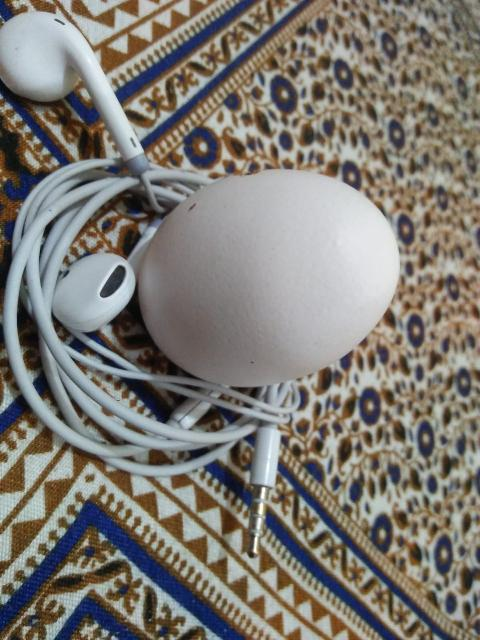Sano: (138, 169, 402, 393)
